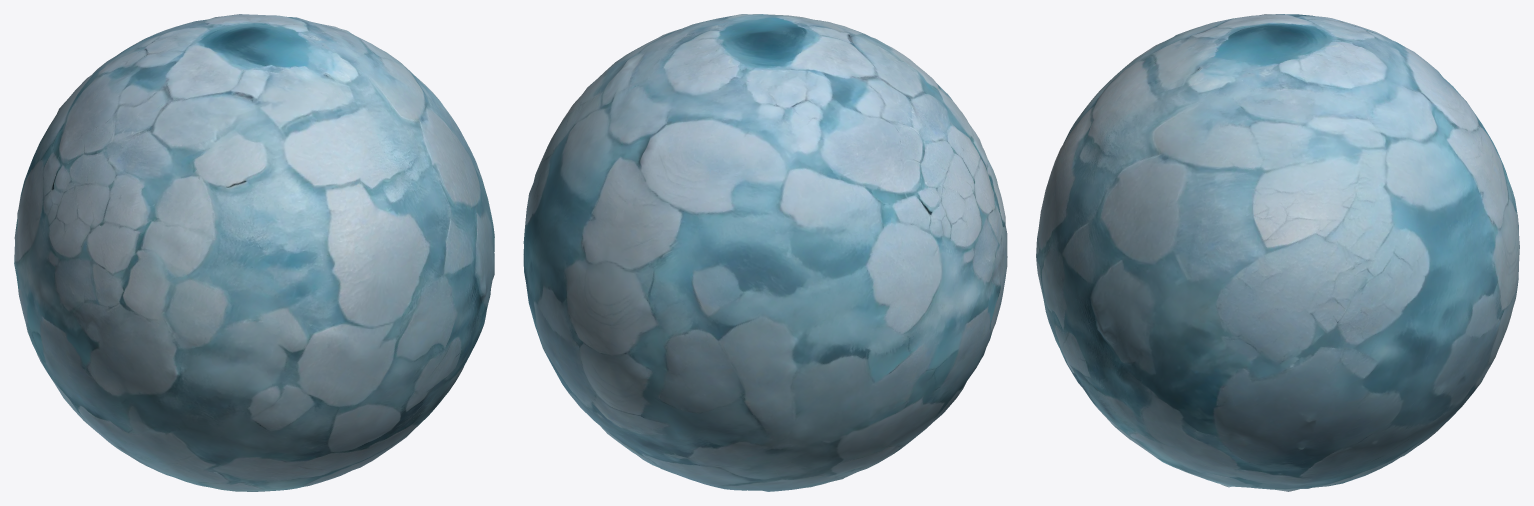
The model's file is ice_planet_3.glb.
3 views of the same model, side by side, from view 1: azimuth 30°, elevation 25°; view 2: azimuth 150°, elevation 25°; view 3: azimuth 270°, elevation 25° (orthographic).
Parts seen in each view (by area): view 1: Mesh_0.028; view 2: Mesh_0.028; view 3: Mesh_0.028.
Boxes of the visible parts, x1,y1,x2,y2 form: Mesh_0.028: (14, 14, 494, 491); Mesh_0.028: (523, 14, 1007, 491); Mesh_0.028: (1036, 14, 1519, 491).
Size of the model in its own units: 2 by 1.99 by 2.
1 material, 1 textured.
